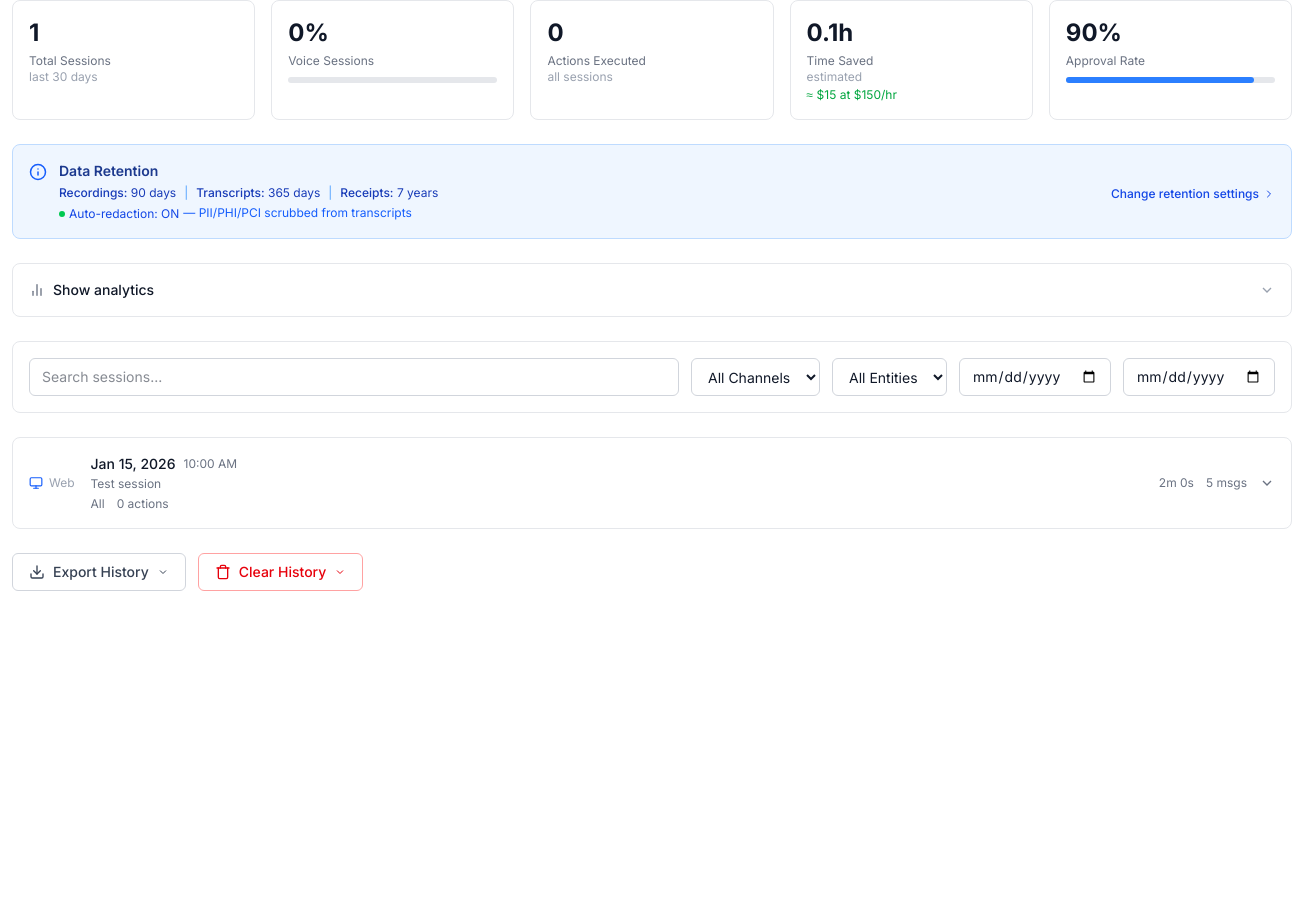
Test: History Tab Enhancements › export button has dropdown options
The width and height of the screenshot is (1304, 900).
Expected: the text "Test session" is shown, x1=91 y1=476 x2=161 y2=491
# Click the export dropdown button
Click the button "Export History" at (99, 572), box x1=12 y1=553 x2=186 y2=591
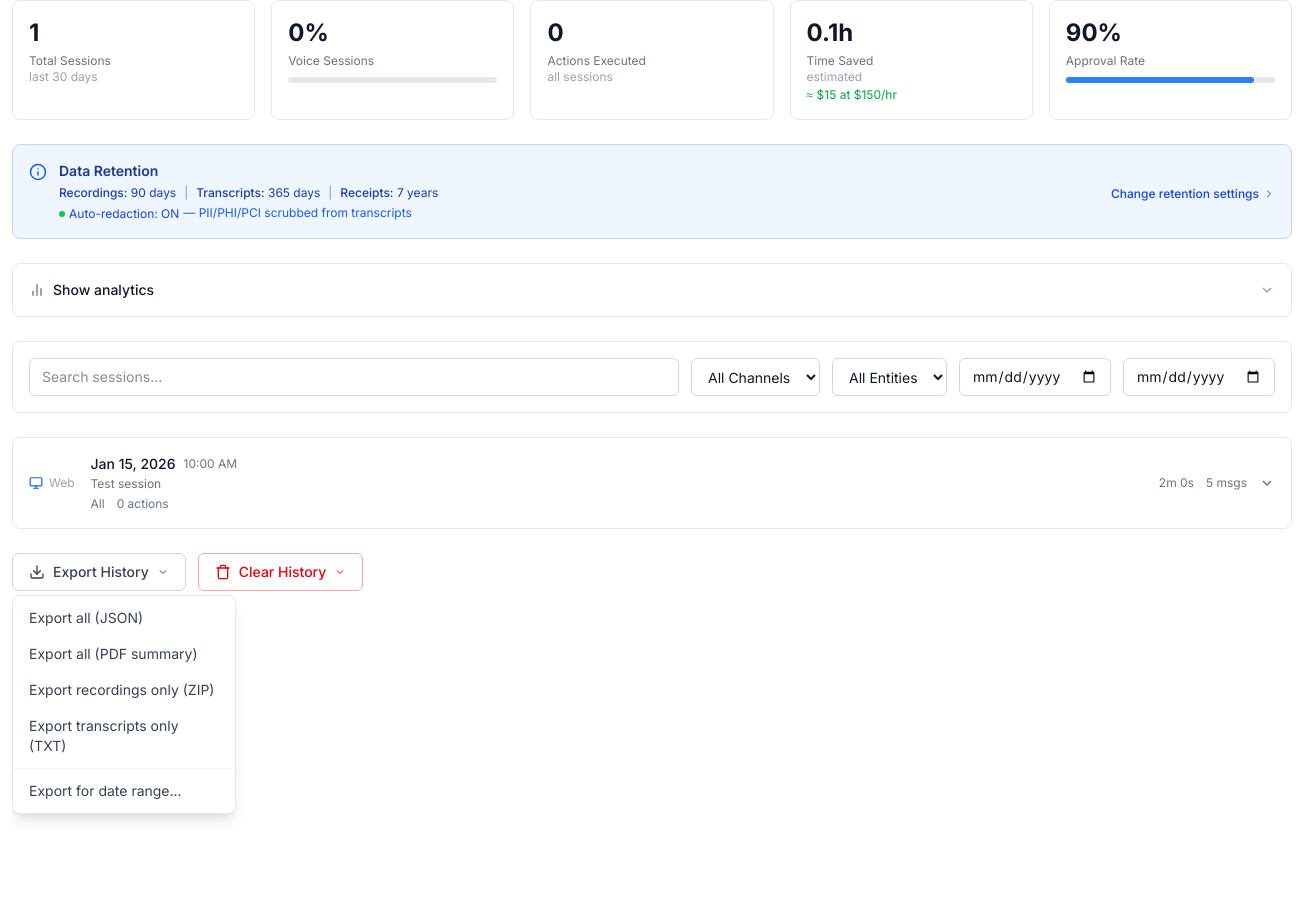
Now the button "Export all (JSON)" is shown, box x1=13 y1=600 x2=235 y2=636
Now the button "Export all (PDF summary)" is shown, box x1=13 y1=636 x2=235 y2=672
Now the button "Export recordings only (ZIP)" is shown, box x1=13 y1=672 x2=235 y2=708
